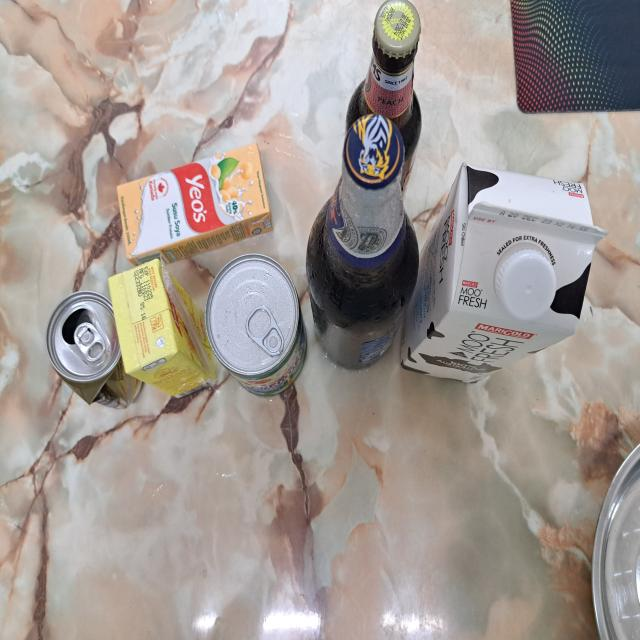can: (203, 252, 308, 399), (41, 301, 126, 397)
drink carton: (417, 163, 598, 389), (110, 139, 278, 253), (102, 255, 210, 412)
glass bottle: (310, 119, 420, 377), (351, 2, 426, 204)
plastic bottle cap: (493, 229, 559, 316)
pop tab: (244, 294, 287, 356), (71, 316, 109, 364)
